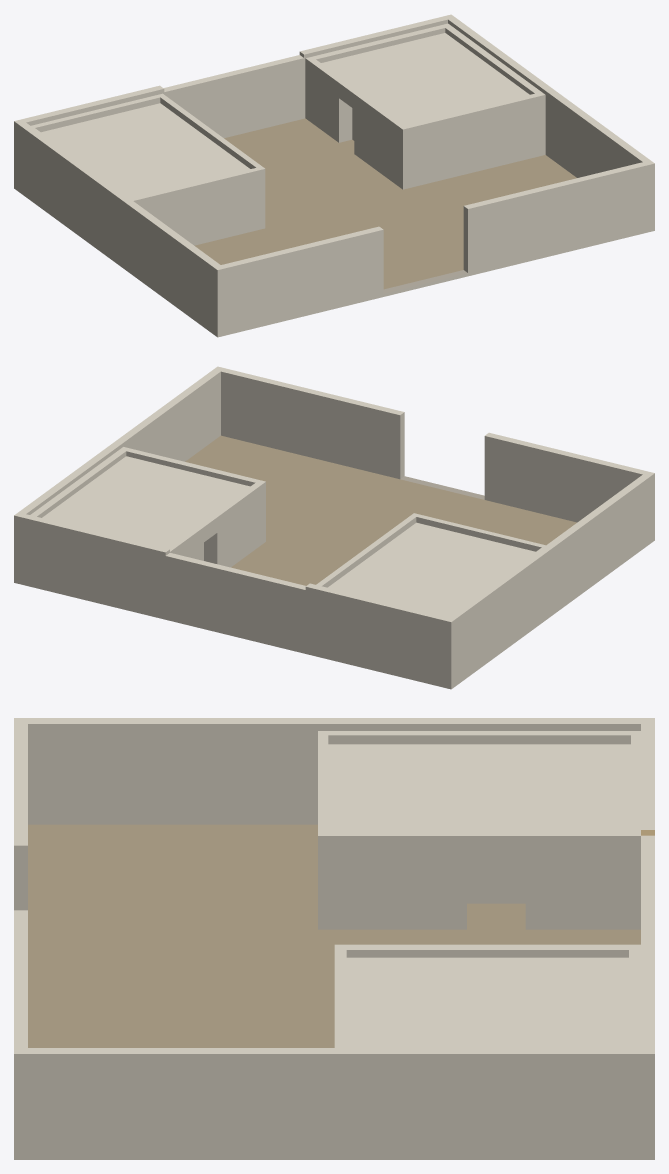
The model's file is adobe_maya.fbx.
3 views of the same model, one above another, from view 1: azimuth 30°, elevation 25°; view 2: azimuth 150°, elevation 25°; view 3: azimuth 270°, elevation 25° (orthographic). The views are drawn at different scales.
Visible parts, largest first — view 1: Adobe_Walled_Compound1:polySurface1; view 2: Adobe_Walled_Compound1:polySurface1; view 3: Adobe_Walled_Compound1:polySurface1.
Boxes of the visible parts, <box> form: Adobe_Walled_Compound1:polySurface1: <box>14,14,654,337</box>; Adobe_Walled_Compound1:polySurface1: <box>14,366,654,689</box>; Adobe_Walled_Compound1:polySurface1: <box>14,718,654,1159</box>.
Bounding box in the file's own units: 448 × 65.88 × 361.
